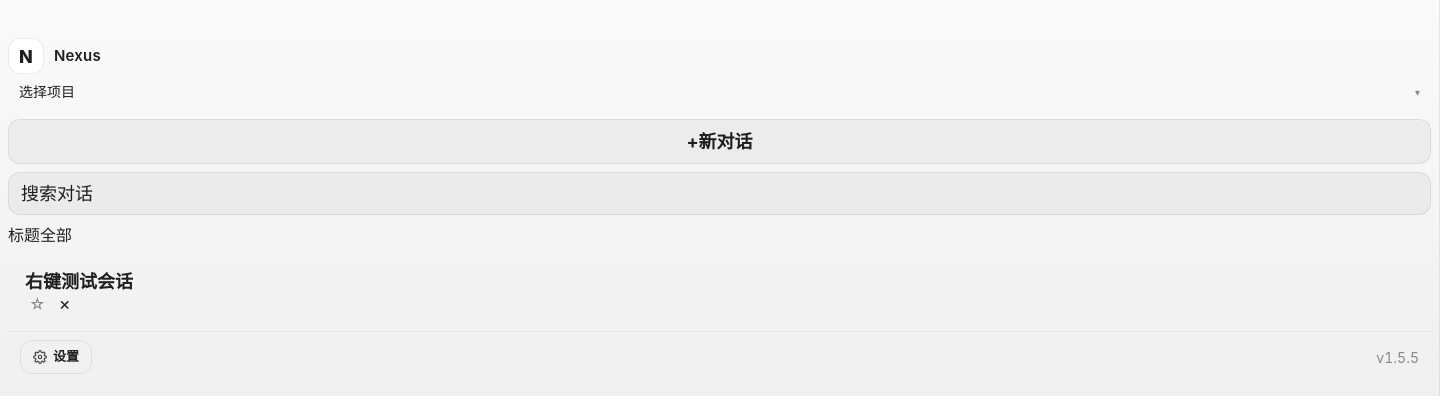
Sidebar 搜索作用域(Round 3 Task 3.5 双层匹配) › 右键 TaskItem 弹出 ConversationMenu(带 anchor 坐标)
This screenshot has width=1440, height=413.
Right-click the button with class "task-item" at {"x": 79, "y": 293}, box [25,271,133,315]
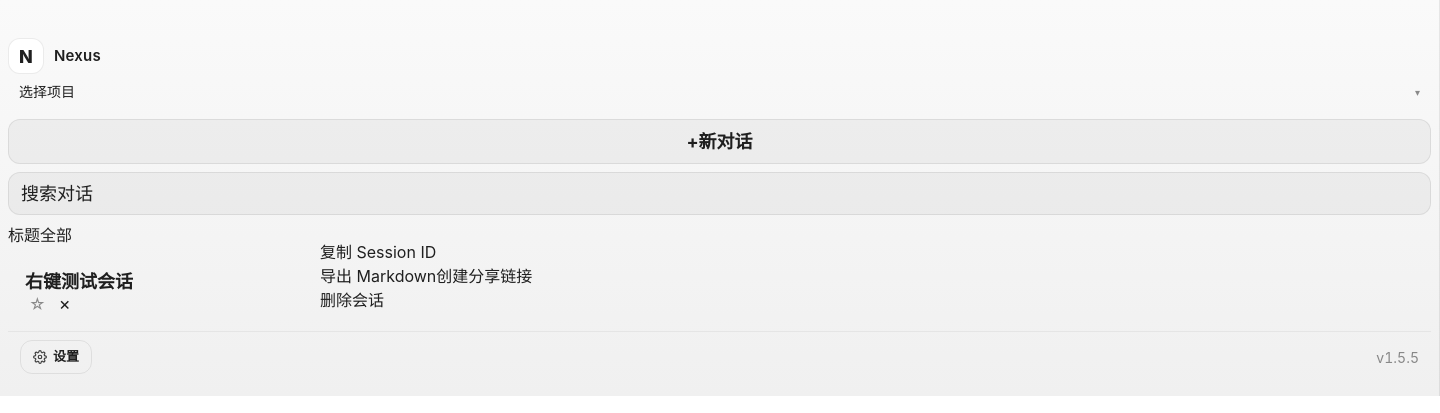
expect the menu with class "conversation-menu" is shown: met, box [320,240,540,312]
